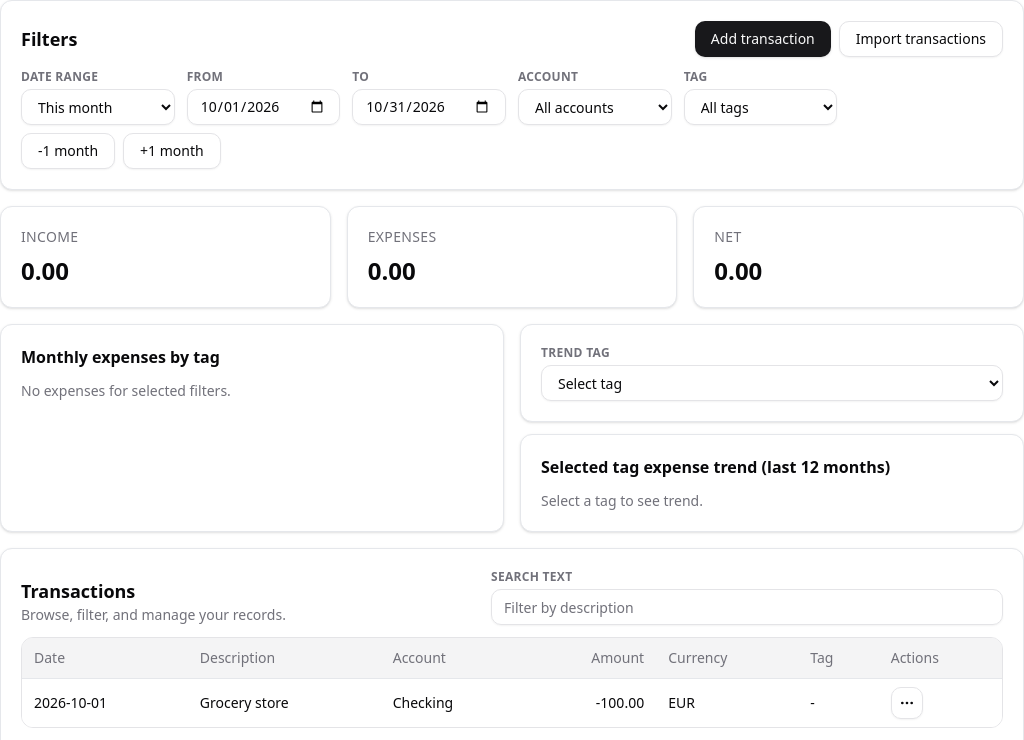
Scenario: TransactionsPage split dialog › closes with Escape after an amount is typed
The image size is (1024, 740).
Check: the text "Grocery store" is shown, box [188, 678, 381, 726]
Click the button named "Open actions menu". click: (907, 702)
box: [891, 686, 923, 718]
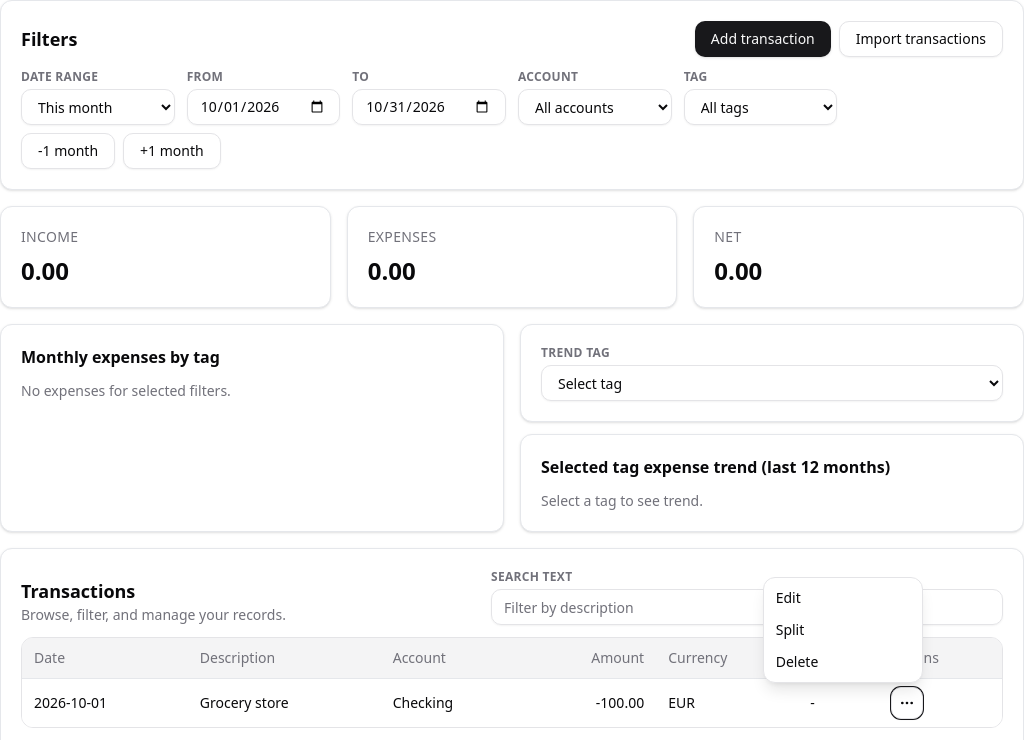
Click the button "Split". click: (843, 630)
box: [768, 614, 918, 646]
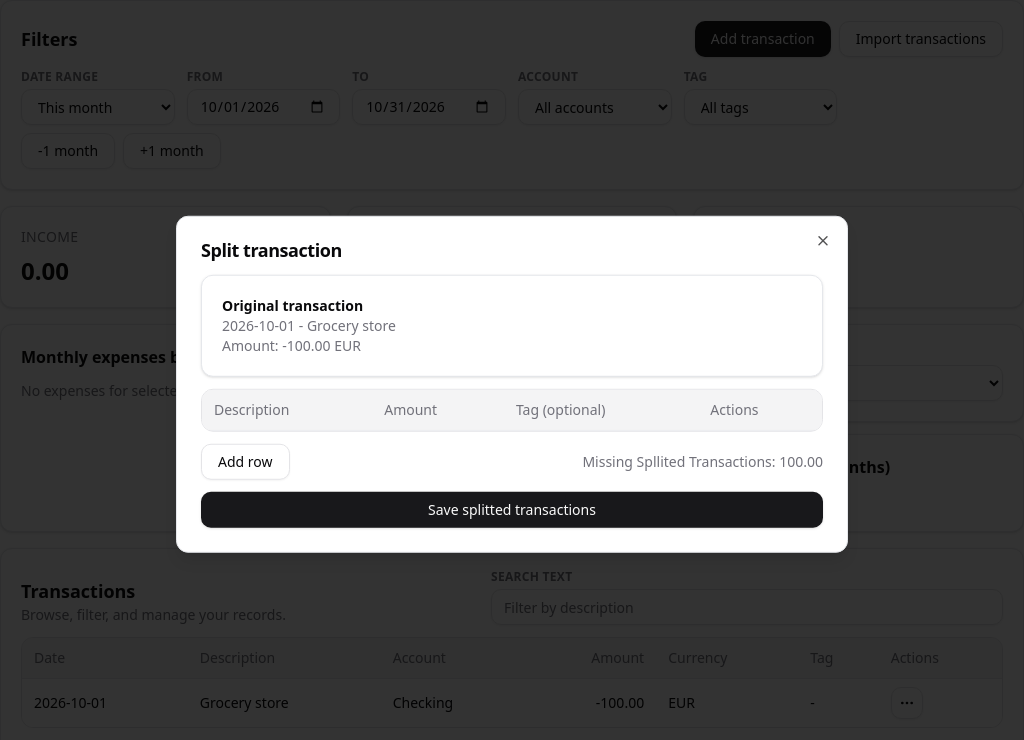
Click the button "Add row". click: (245, 461)
box: [201, 443, 290, 479]
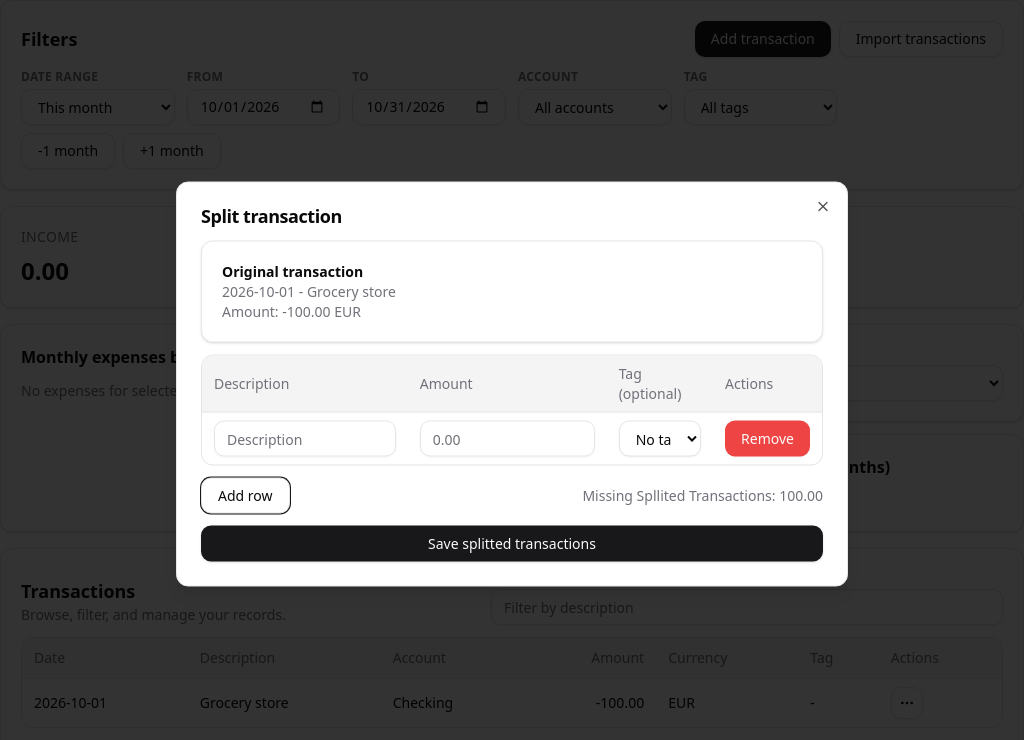
Type "12.50" into the field with placeholder "0.00". click: (507, 438)
box: [420, 420, 595, 456]
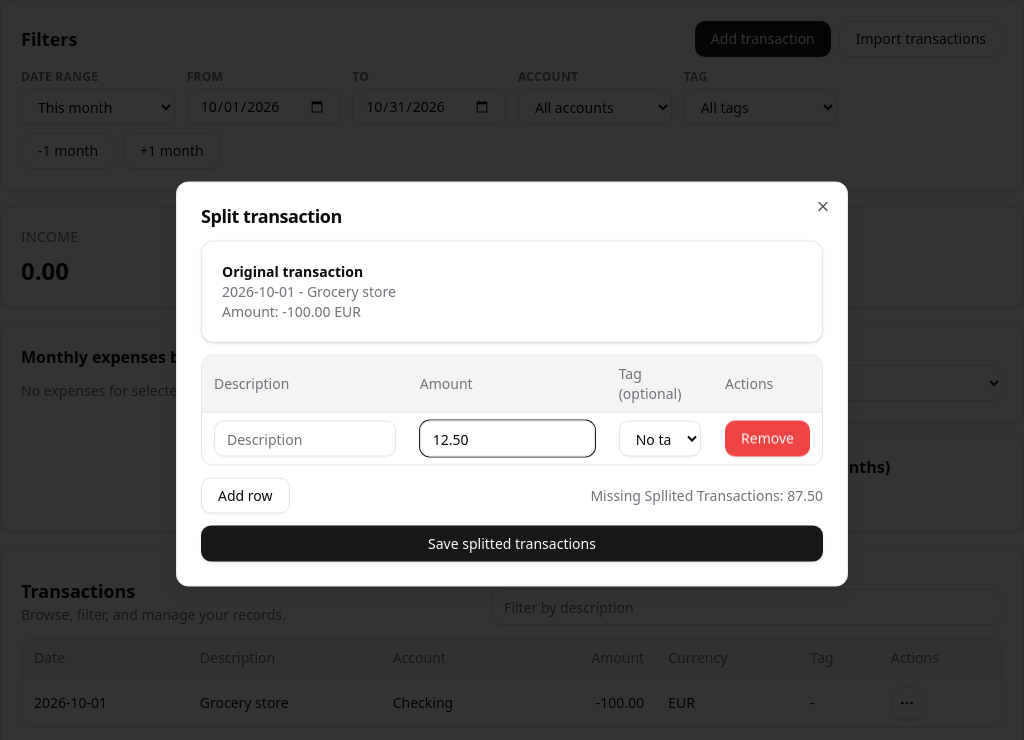
Press Escape
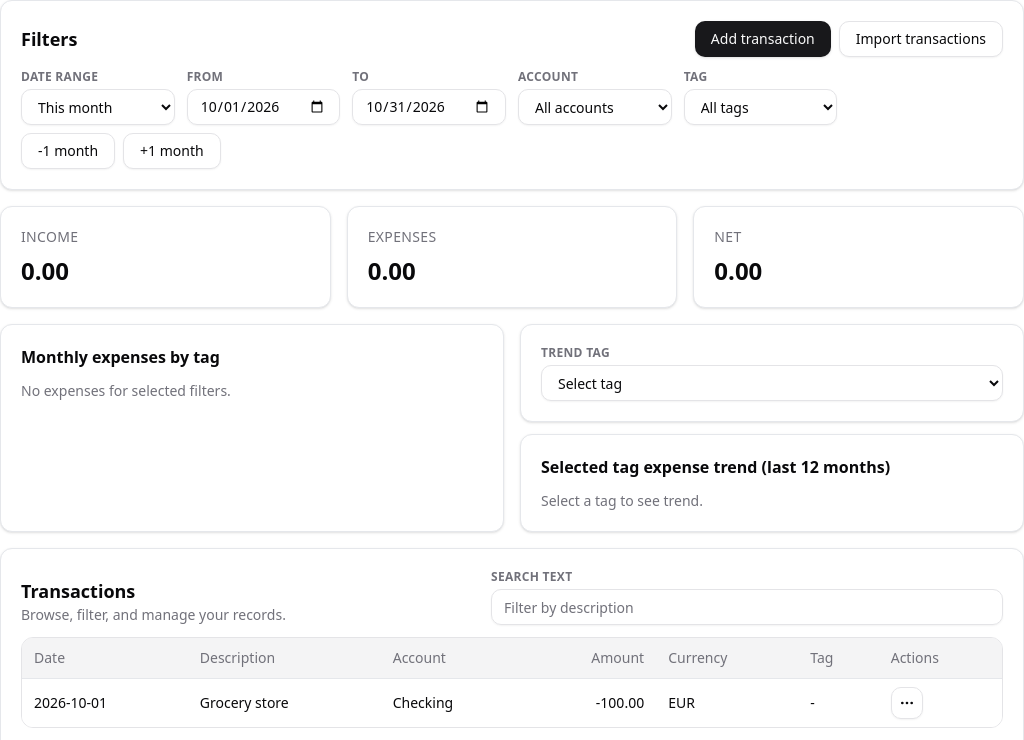
Check: the dialog is gone
